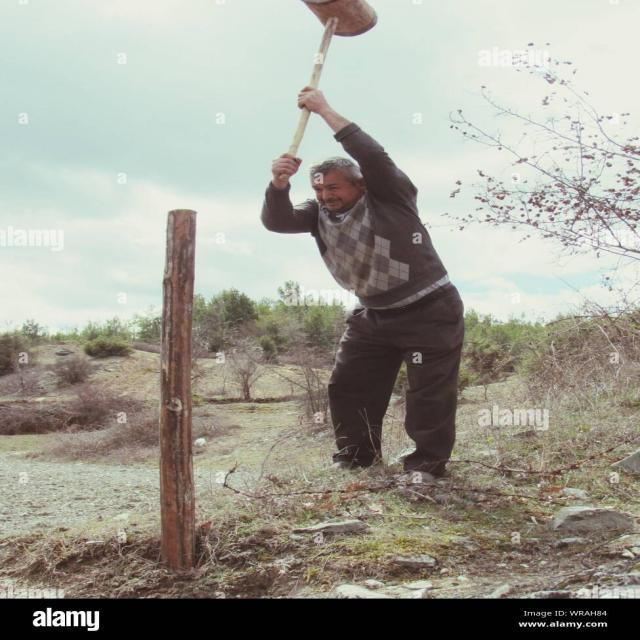hammer: (248, 0, 395, 198)
